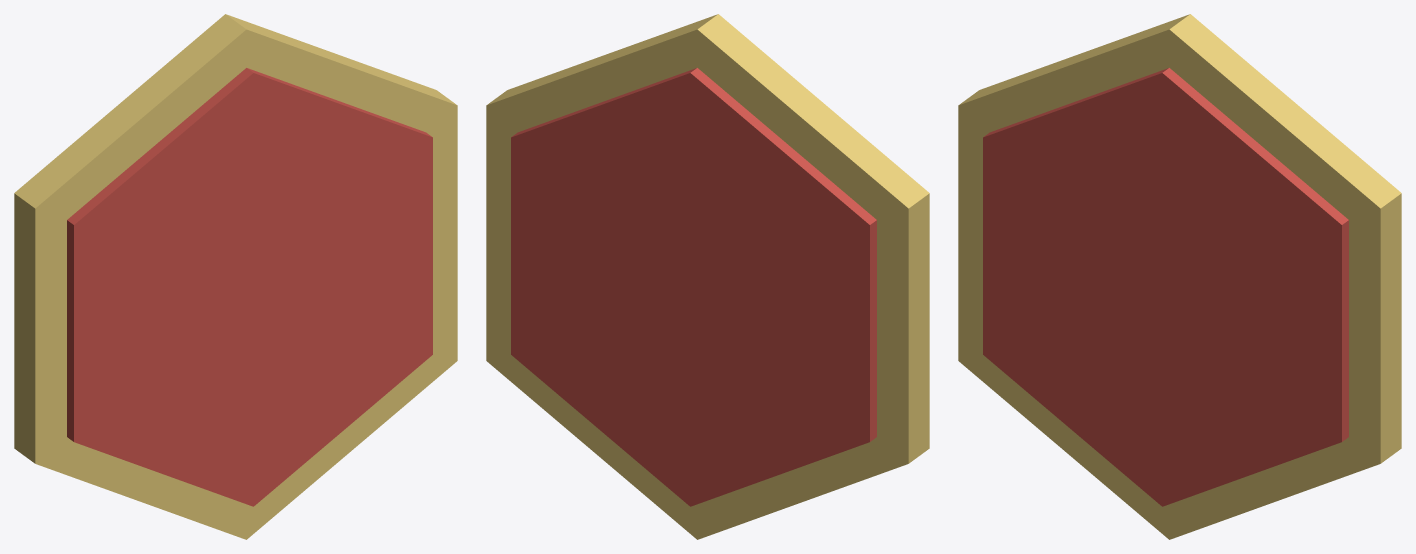
The model's file is escama_ancestral.glb.
3 renders of one model, left to right at view 1: azimuth 30°, elevation 25°; view 2: azimuth 150°, elevation 25°; view 3: azimuth 330°, elevation 25°, orthographic.
Parts seen in each view (by area): view 1: Cylinder; view 2: Cylinder; view 3: Cylinder.
Boxes of the visible parts, x1,y1,x2,y2 form: Cylinder: [14, 14, 457, 539]; Cylinder: [486, 14, 929, 539]; Cylinder: [958, 14, 1401, 539].
Bounding box in the file's own units: 0.3464 × 0.4 × 0.05.
